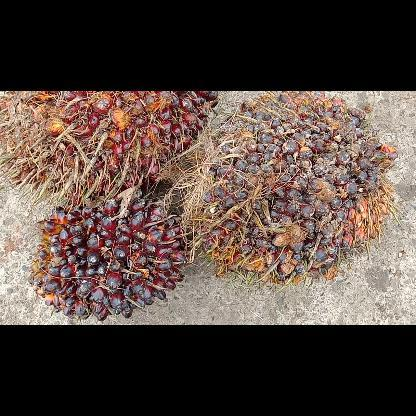Kurang masak: (197, 91, 397, 282), (29, 200, 191, 320)
TBS masak: (0, 91, 218, 205)
